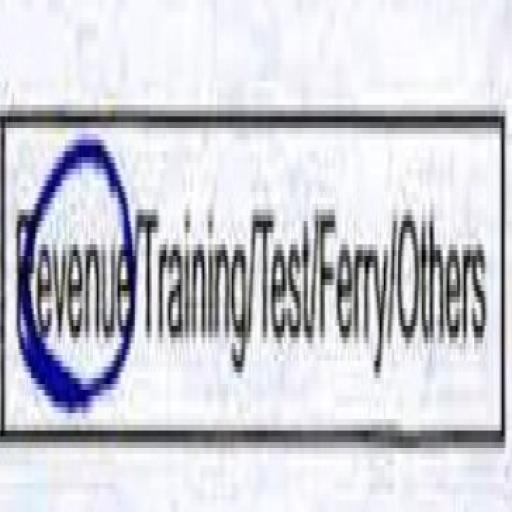check: (12, 65, 138, 511)
